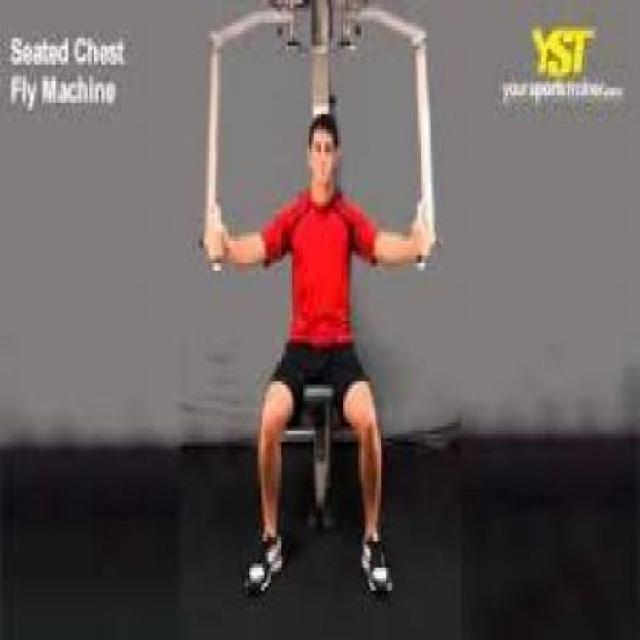chest fly machine: (194, 0, 446, 611)
